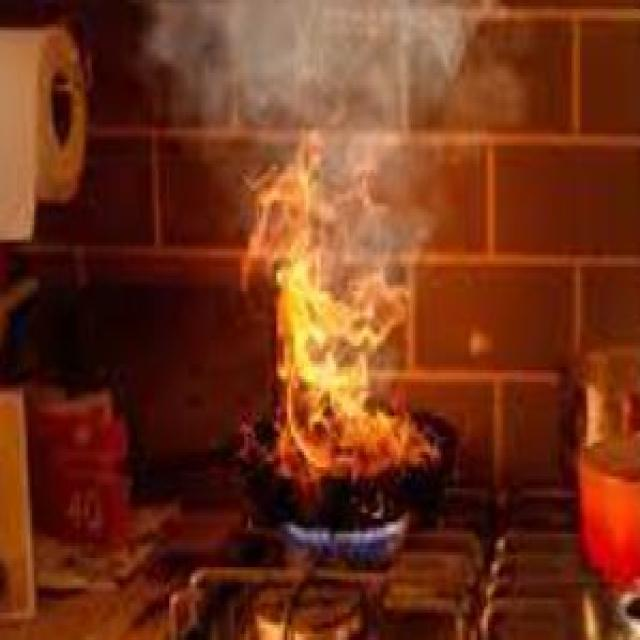Fire_Save: (235, 121, 441, 519)
